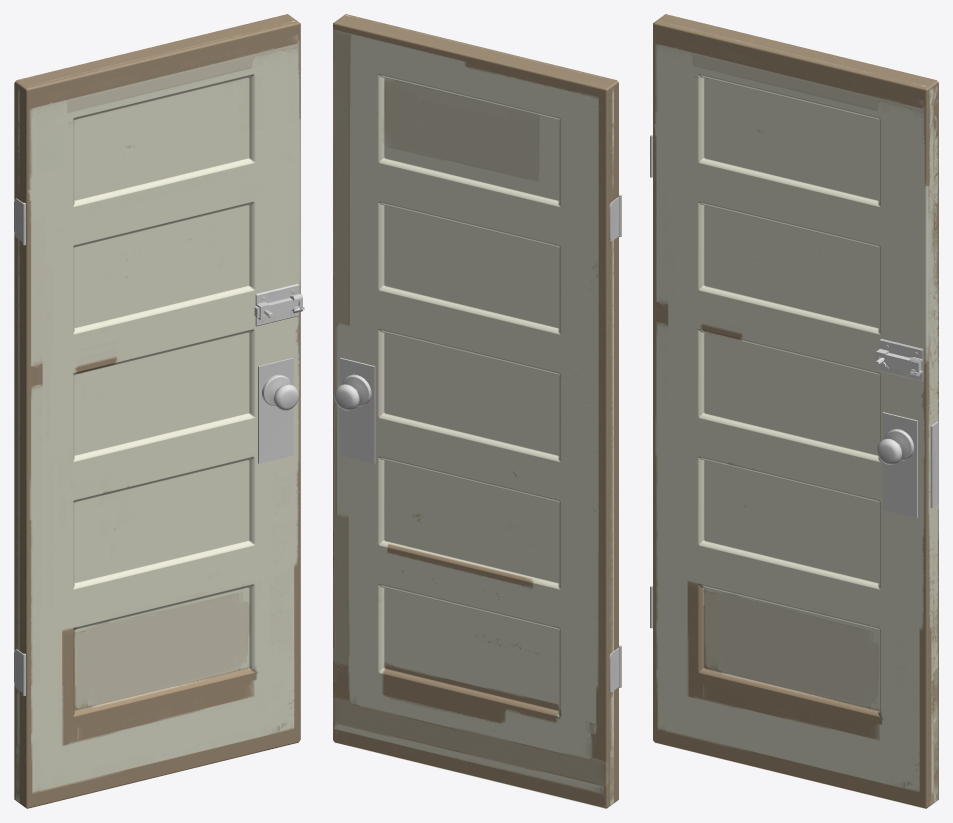
The model's file is Obj_Door_Bone #9820.fbx.
3 renders of one model, left to right at view 1: azimuth 30°, elevation 25°; view 2: azimuth 150°, elevation 25°; view 3: azimuth 330°, elevation 25°, orthographic.
Parts seen in each view (by area): view 1: DoorWood_B, DoorWood_A, Handle_B; view 2: DoorWood_A, DoorWood_B, Handle_A, Hinge_Top, Hinge_Bottom; view 3: DoorWood_B, DoorWood_A, Handle_B, Lock, Base002, Base.
Part boxes in pixels (bbox=[...]): DoorWood_B: bbox=[19, 18, 300, 808]; DoorWood_A: bbox=[14, 14, 292, 803]; Handle_B: bbox=[258, 358, 298, 463]; DoorWood_A: bbox=[333, 18, 613, 808]; DoorWood_B: bbox=[340, 14, 618, 802]; Handle_A: bbox=[334, 358, 375, 463]; Hinge_Top: bbox=[609, 194, 621, 241]; Hinge_Bottom: bbox=[609, 645, 621, 691]; DoorWood_B: bbox=[653, 18, 933, 808]; DoorWood_A: bbox=[660, 14, 938, 802]; Handle_B: bbox=[877, 412, 917, 517]; Lock: bbox=[930, 421, 938, 507]; Base002: bbox=[880, 338, 923, 380]; Base: bbox=[880, 340, 923, 381].
Size of the model in its own units: 0.8119 by 2 by 0.2076.
3 materials, 3 textured.
